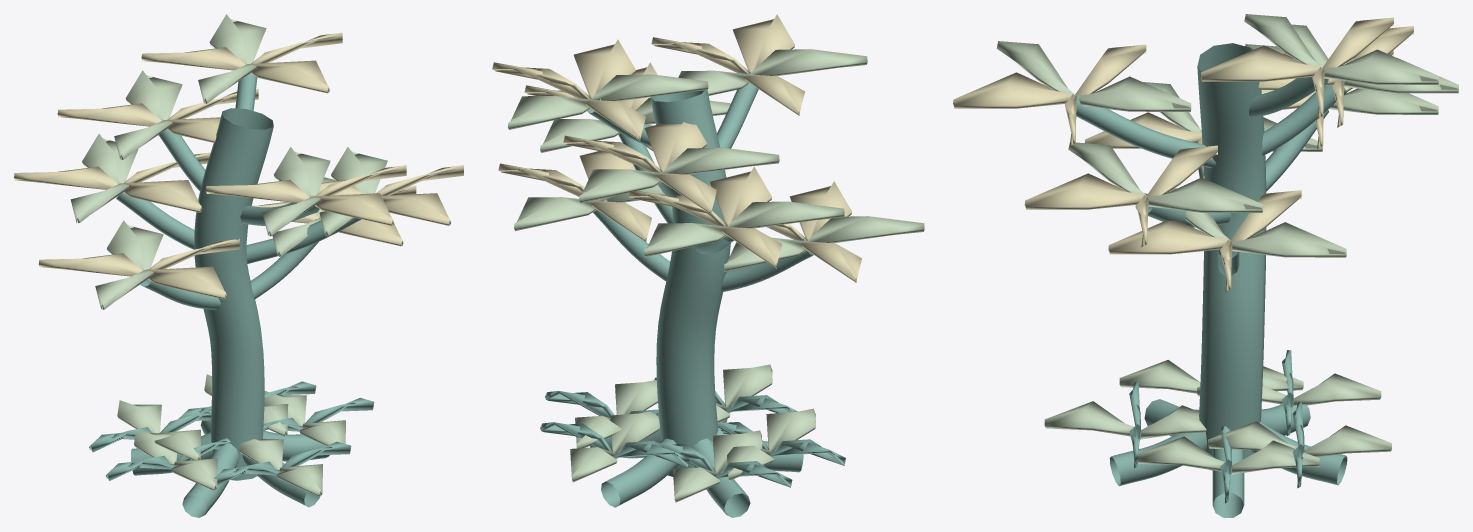
The model's file is bio_canopy_tree_10_near.glb.
The picture shows the model from 3 angles, left to right: view 1: azimuth 30°, elevation 25°; view 2: azimuth 150°, elevation 25°; view 3: azimuth 270°, elevation 25°; orthographic projection. The views are drawn at different scales.
Parts seen in each view (by area): view 1: Buttressed trunk, Broad canopy leaf.015, Broad canopy leaf.010, Broad canopy leaf.020, Broad canopy leaf.005, Broad canopy leaf.030, Broad canopy leaf.031, Broad canopy leaf.016, Broad canopy leaf.011, Broad canopy leaf.021, Broad canopy leaf.025, Broad canopy leaf.006 (+13 smaller); view 2: Buttressed trunk, Broad canopy leaf.010, Broad canopy leaf.015, Broad canopy leaf.005, Broad canopy leaf.030, Broad canopy leaf.006, Broad canopy leaf.031, Broad canopy leaf.016, Broad canopy leaf.021, Broad canopy leaf.011, Broad canopy leaf, Broad canopy leaf.020 (+13 smaller); view 3: Buttressed trunk, Broad canopy leaf.015, Broad canopy leaf.025, Broad canopy leaf.010, Broad canopy leaf, Broad canopy leaf.016, Broad canopy leaf.026, Broad canopy leaf.011, Broad canopy leaf.001, Low buttress leaf.001, Low buttress leaf.009, Low buttress leaf.013 (+10 smaller).
Boxes of the visible parts, x1,y1,x2,y2 form: Buttressed trunk: [116, 73, 361, 517]; Broad canopy leaf.015: [141, 32, 342, 93]; Broad canopy leaf.010: [205, 165, 406, 225]; Broad canopy leaf.020: [38, 238, 239, 299]; Broad canopy leaf.005: [14, 152, 210, 212]; Broad canopy leaf.030: [57, 88, 258, 142]; Broad canopy leaf.031: [114, 70, 182, 159]; Broad canopy leaf.016: [198, 14, 266, 103]; Broad canopy leaf.011: [262, 147, 330, 236]; Broad canopy leaf.021: [95, 220, 163, 309]; Broad canopy leaf.025: [317, 165, 463, 225]; Broad canopy leaf.006: [70, 134, 138, 223]; Buttressed trunk: [587, 73, 813, 517]; Broad canopy leaf.010: [651, 14, 804, 115]; Broad canopy leaf.015: [492, 39, 645, 141]; Broad canopy leaf.005: [628, 166, 781, 268]; Broad canopy leaf.030: [563, 122, 716, 214]; Broad canopy leaf.006: [644, 201, 844, 257]; Broad canopy leaf.031: [579, 147, 779, 203]; Broad canopy leaf.016: [508, 74, 708, 129]; Broad canopy leaf.021: [724, 216, 924, 271]; Broad canopy leaf.011: [678, 49, 867, 95]; Broad canopy leaf: [498, 151, 651, 242]; Broad canopy leaf.020: [767, 181, 861, 282]; Buttressed trunk: [1076, 43, 1347, 517]; Broad canopy leaf.015: [1200, 17, 1393, 119]; Broad canopy leaf.025: [1024, 145, 1217, 247]; Broad canopy leaf.010: [953, 44, 1146, 146]; Broad canopy leaf: [1108, 190, 1301, 291]; Broad canopy leaf.016: [1244, 14, 1438, 84]; Broad canopy leaf.026: [1068, 142, 1262, 212]; Broad canopy leaf.011: [996, 41, 1191, 111]; Broad canopy leaf.001: [1167, 188, 1346, 257]; Low buttress leaf.001: [1138, 436, 1319, 475]; Low buttress leaf.009: [1044, 401, 1206, 439]; Low buttress leaf.013: [1208, 421, 1391, 457].
Bounding box in the file's own units: 2.97 × 2.99 × 3.05.
